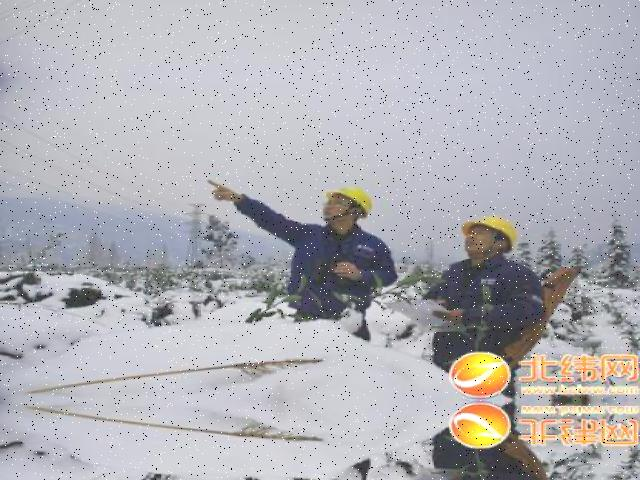Helmet: (454, 210, 520, 253), (319, 182, 373, 221)
